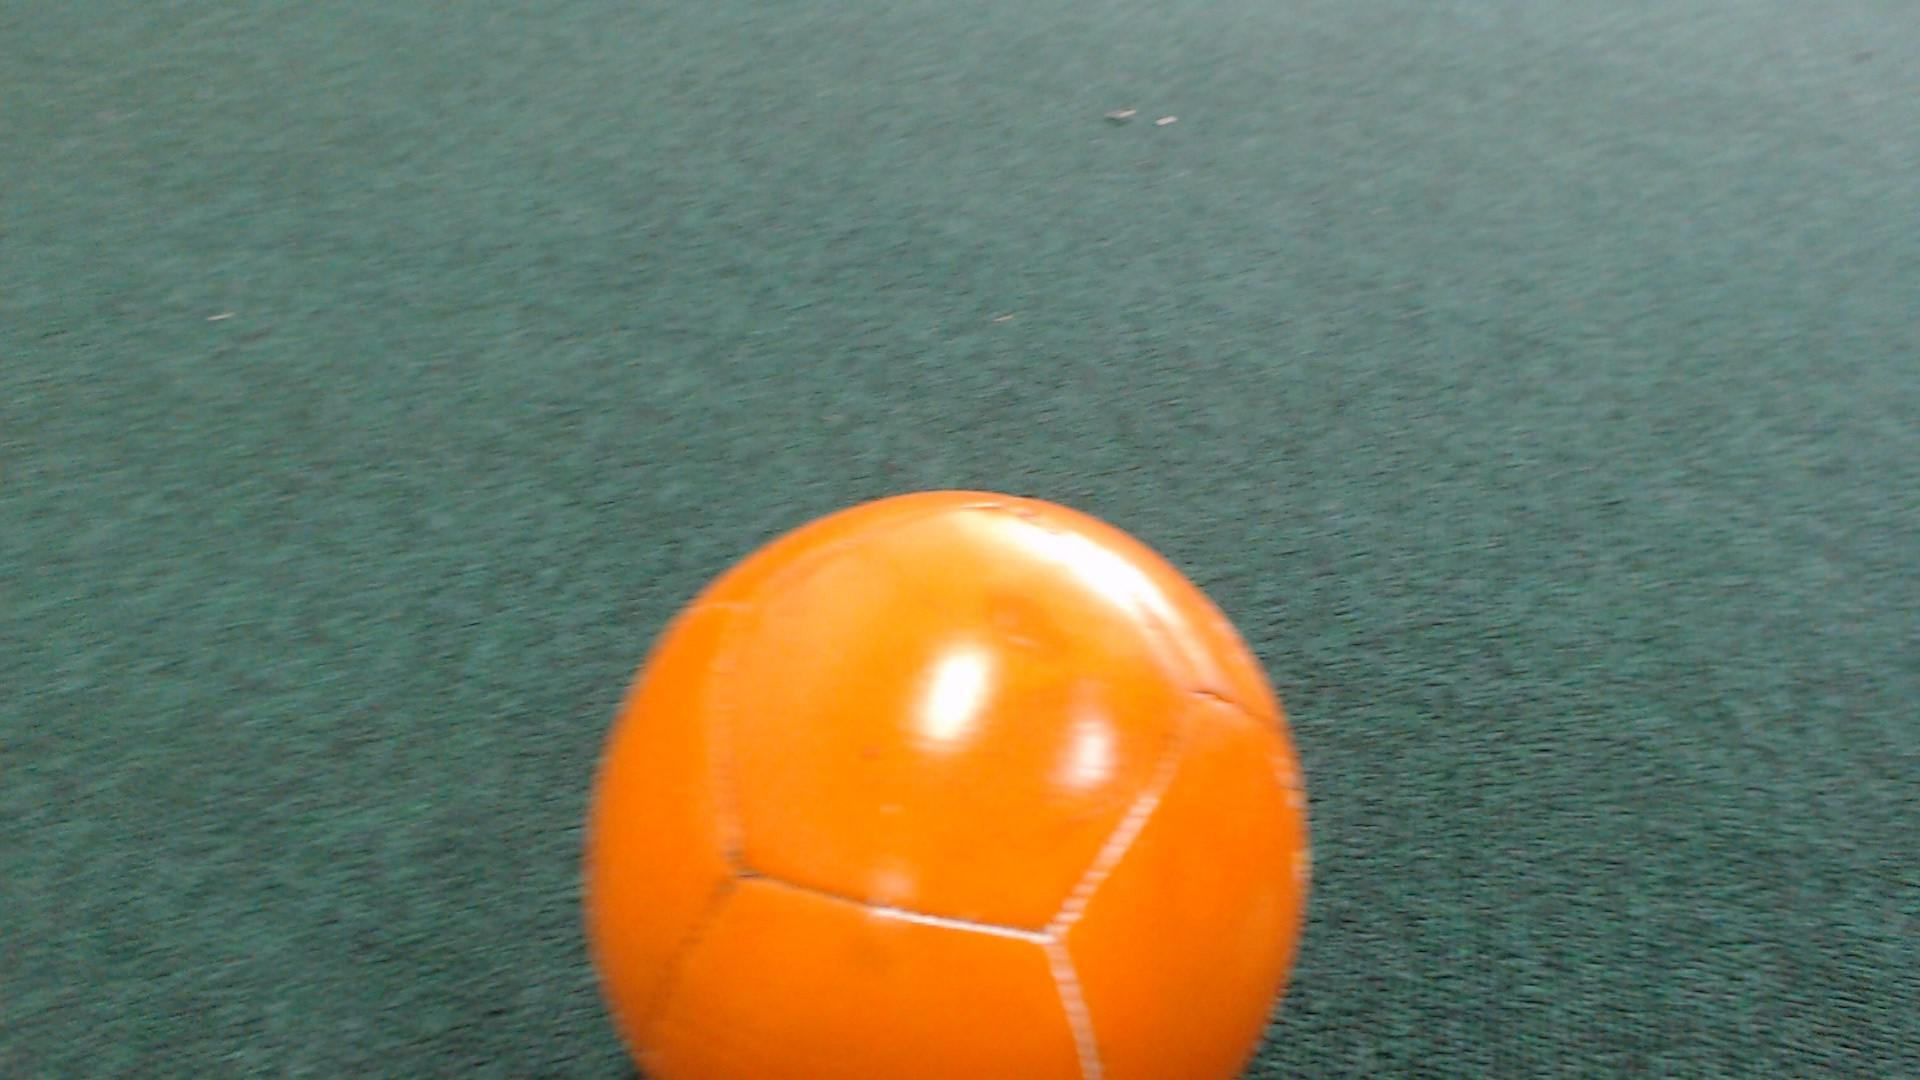bola: (541, 455, 1350, 1079)
